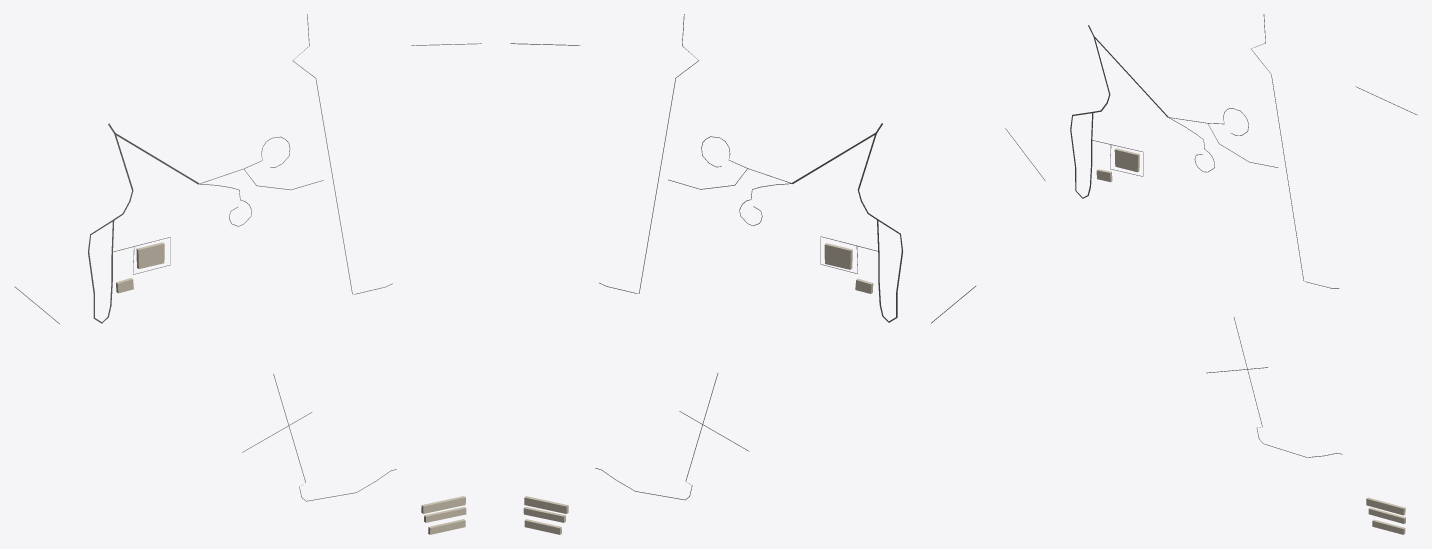
File: historic-palestine-07_27_3486_3214.glb
3 renders of one model, left to right at view 1: azimuth 30°, elevation 25°; view 2: azimuth 150°, elevation 25°; view 3: azimuth 330°, elevation 25°, orthographic. The views are drawn at different scales.
Parts seen in each view (by area): view 1: Road .001, Building_; view 2: Road .001, Building_; view 3: Road .001.
Boxes of the visible parts, box(x1,y1,x2,y2) form: Road .001: box(88, 123, 133, 323); Building_: box(136, 242, 164, 268); Road .001: box(857, 123, 903, 322); Building_: box(824, 243, 852, 269); Road .001: box(1070, 25, 1110, 198).
Bounding box in the file's own units: 1050 × 1184 × 8.7.
